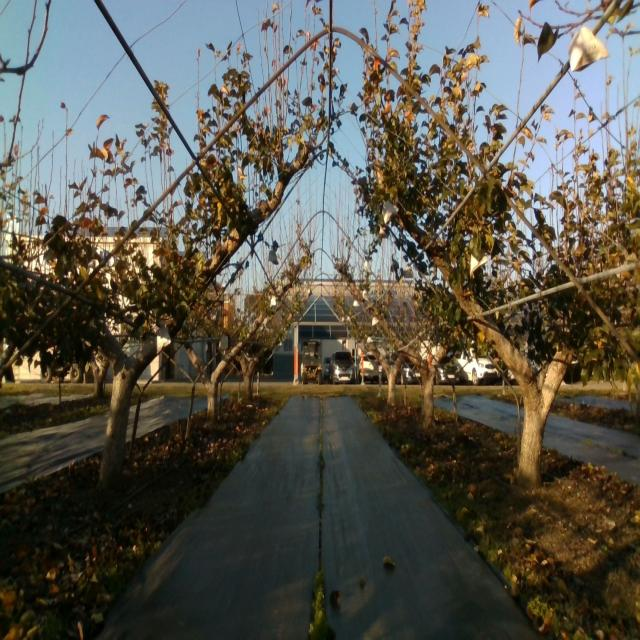pearbags: (568, 27, 610, 74), (155, 326, 172, 352), (382, 198, 398, 225)
